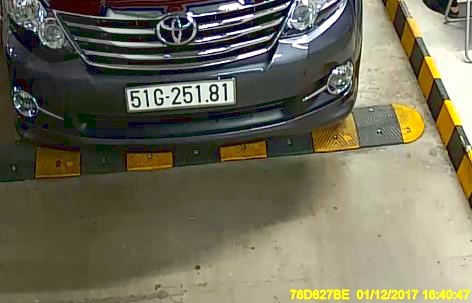plate: (123, 82, 239, 110)
